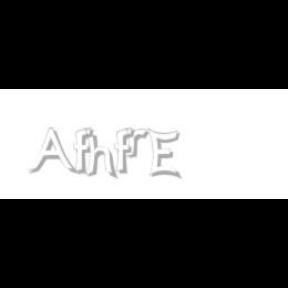A: (28, 128, 76, 176)
E: (148, 128, 180, 180)
f: (73, 128, 97, 174), (114, 128, 138, 174)
h: (84, 128, 120, 180)
r: (124, 128, 152, 158)
